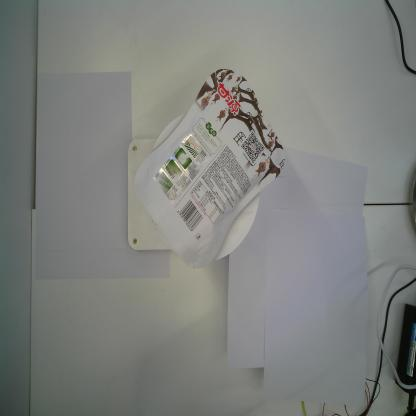Dried Fruit: (134, 67, 285, 272)
